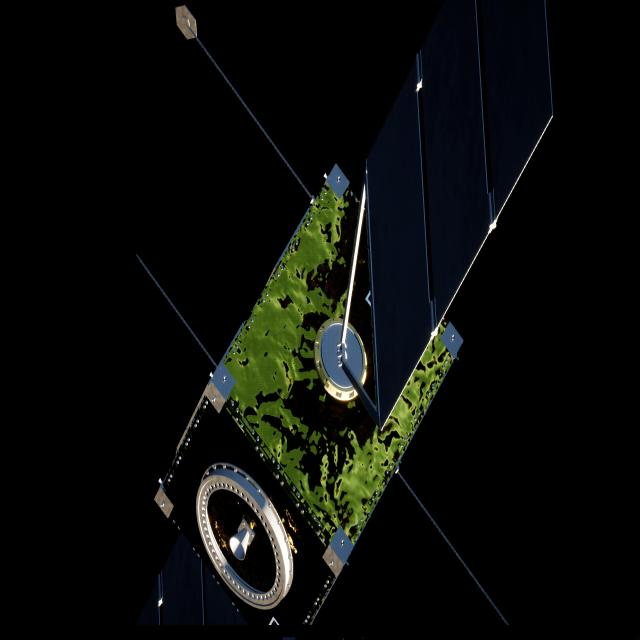medium_debris: (139, 0, 552, 640)
